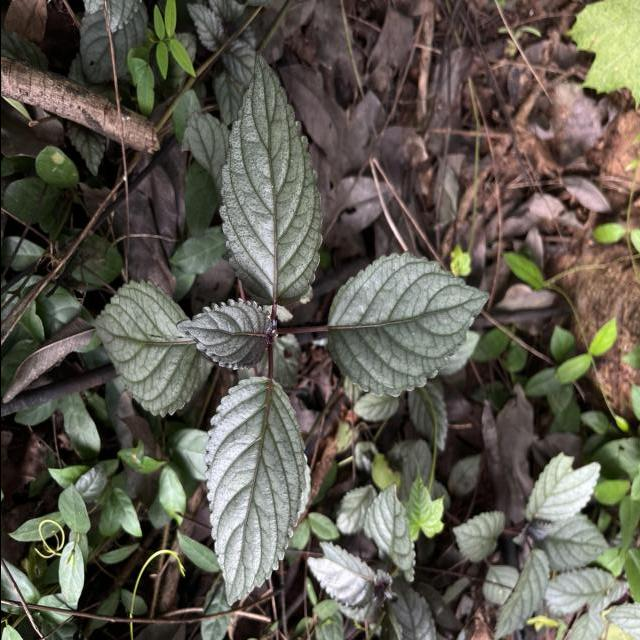Hemigraphis colorata: (215, 45, 325, 308), (200, 373, 310, 610), (323, 249, 494, 400), (90, 276, 202, 420), (173, 296, 277, 373), (359, 479, 418, 587)
